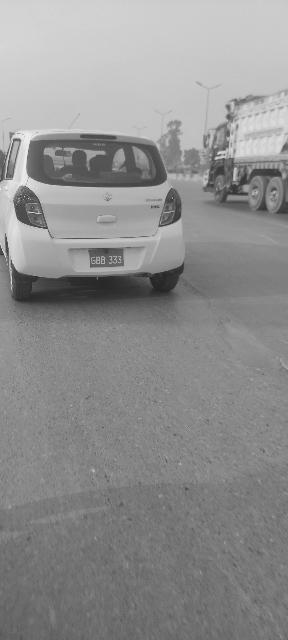Number: (90, 254, 122, 266)
